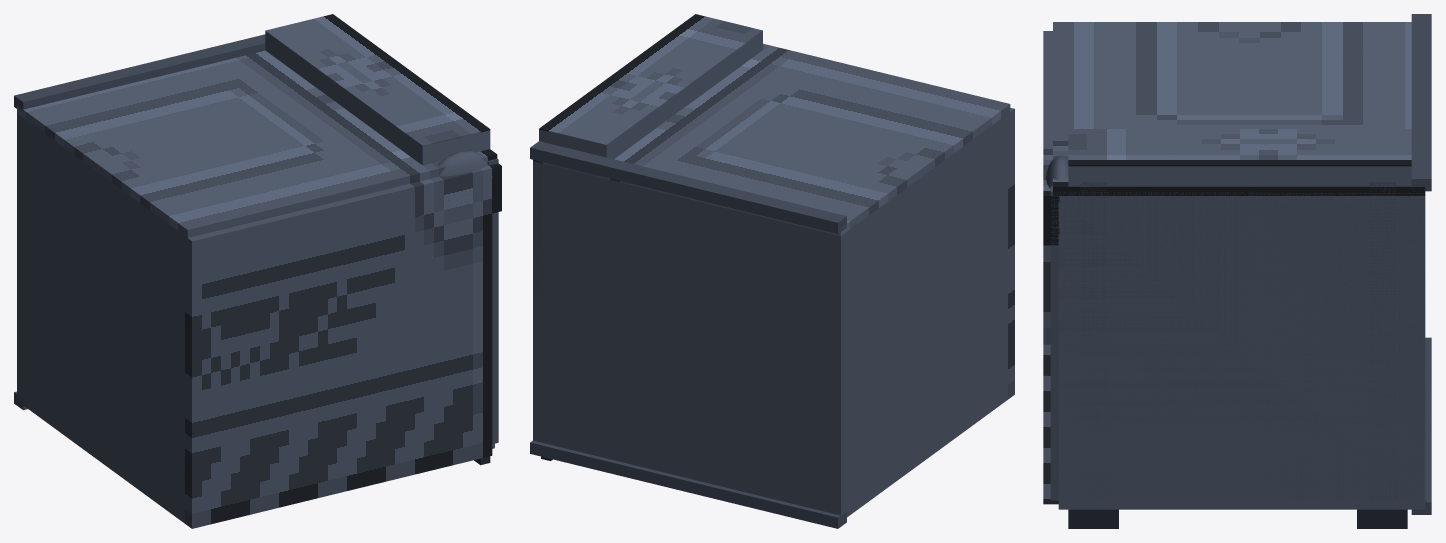
Rendered from CMU3DFreightAU14ContainerTartarusRightBlueWYWings.glb.
The picture shows the model from 3 angles, left to right: view 1: azimuth 30°, elevation 25°; view 2: azimuth 150°, elevation 25°; view 3: azimuth 270°, elevation 25°; orthographic projection. The views are drawn at different scales.
Parts seen in each view (by area): view 1: painted front panel, closed cargo shell, source-painted lid, source-painted locking strap, outer lid strap, rear horizontal frame, outer end wall, rounded strap end; view 2: closed cargo shell, source-painted lid, rear horizontal frame (×2), source-painted locking strap, outer lid strap, painted front panel, outer end wall; view 3: closed cargo shell, source-painted lid, outer end wall, source-painted locking strap, outer lid strap, rear horizontal frame (×2), painted front panel, corner lifting foot (×2), corner frame upright (×2), rounded strap end.
Boxes of the visible parts, x1,y1,x2,y2 form: painted front panel: (184,163,501,528); closed cargo shell: (17,113,494,523); source-painted lid: (17,50,497,237); source-painted locking strap: (265,14,490,146); outer lid strap: (265,32,490,165); rear horizontal frame: (14,34,265,113); outer end wall: (487,158,498,444); rounded strap end: (438,150,487,176); closed cargo shell: (533,114,1007,517); source-painted lid: (533,43,1010,235); rear horizontal frame (×2): (530,141,846,528); source-painted locking strap: (539,14,762,145); outer lid strap: (539,31,762,159); painted front panel: (1008,108,1014,399); outer end wall: (533,160,542,354); closed cargo shell: (1058,196,1425,509); source-painted lid: (1053,22,1425,195); outer end wall: (1050,186,1425,500); source-painted locking strap: (1068,129,1411,166); outer lid strap: (1068,166,1411,186); rear horizontal frame (×2): (1411,14,1431,514); painted front panel: (1043,31,1059,504); corner lifting foot (×2): (1068,509,1407,528); corner frame upright (×2): (1080,182,1395,499); rounded strap end: (1046,155,1068,188).
Bounding box in the file's own units: 1 × 1.03 × 0.995.
Materials: 10 (3 with a texture image).
